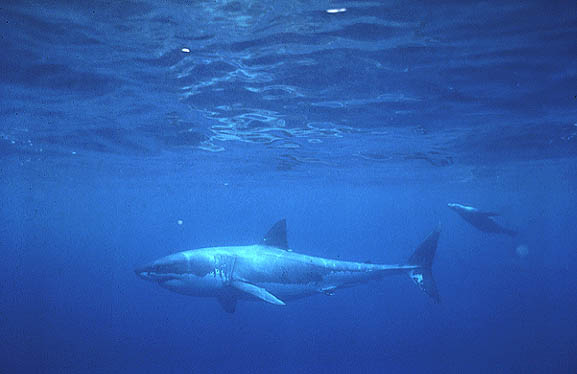Carcharodon_carcharias: (125, 218, 454, 326)
